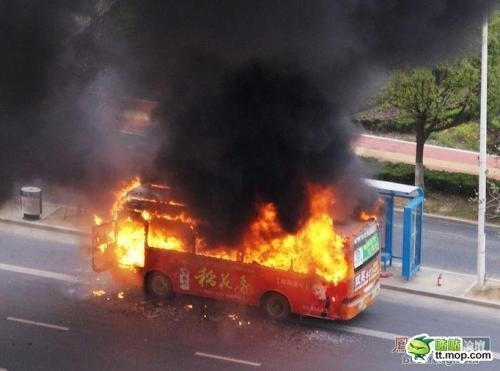fire: (96, 176, 356, 275), (91, 176, 195, 271)
